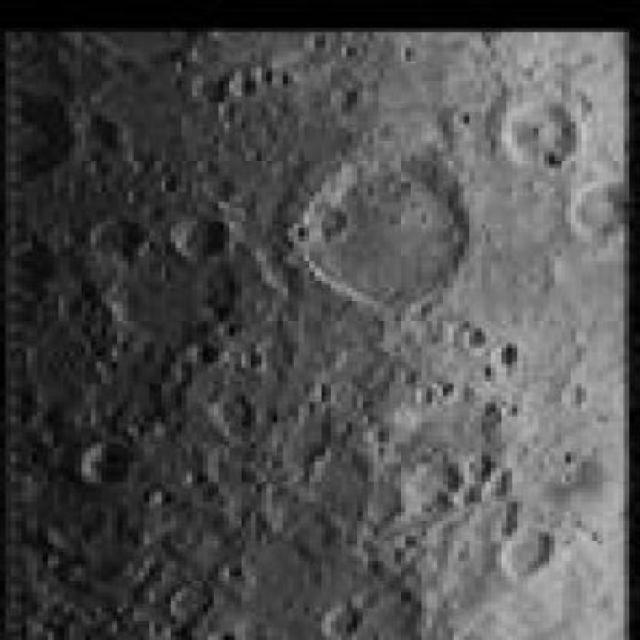crater: (301, 150, 468, 312), (166, 218, 229, 258)
